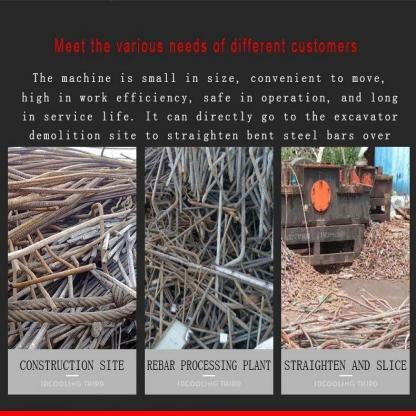rebar: (147, 147, 273, 350), (10, 147, 136, 348), (281, 300, 408, 350), (356, 219, 412, 277)
